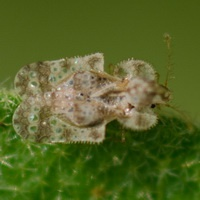insect: (12, 53, 170, 142)
